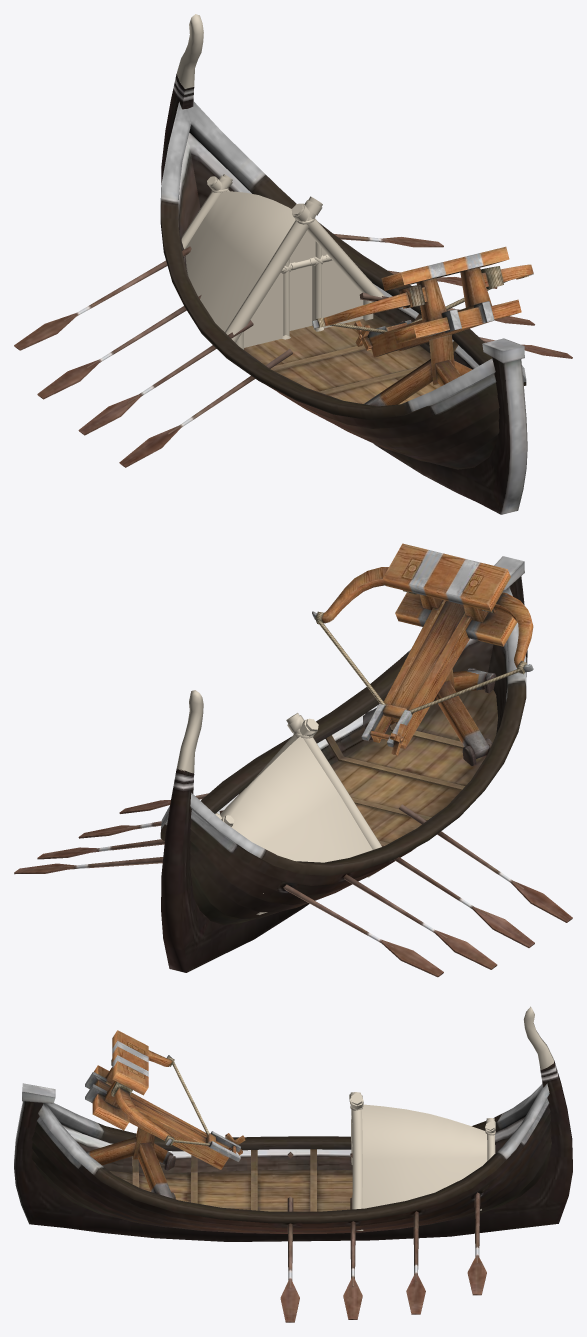
The model's file is 236-dragonship.glb.
The picture shows the model from 3 angles, top to bottom: view 1: azimuth 30°, elevation 25°; view 2: azimuth 150°, elevation 25°; view 3: azimuth 270°, elevation 25°; orthographic projection. The views are drawn at different scales.
Bounding box in the file's own units: 5.34 × 3.27 × 7.12.
4 materials, 2 textured.
